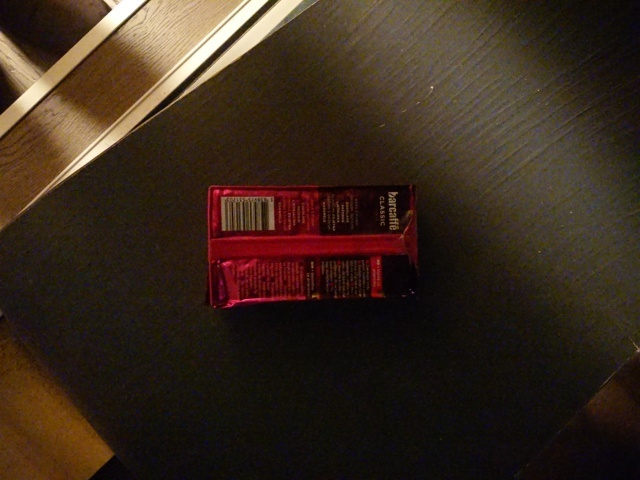Barcaffe Classic Original 225g: (203, 181, 421, 313)
